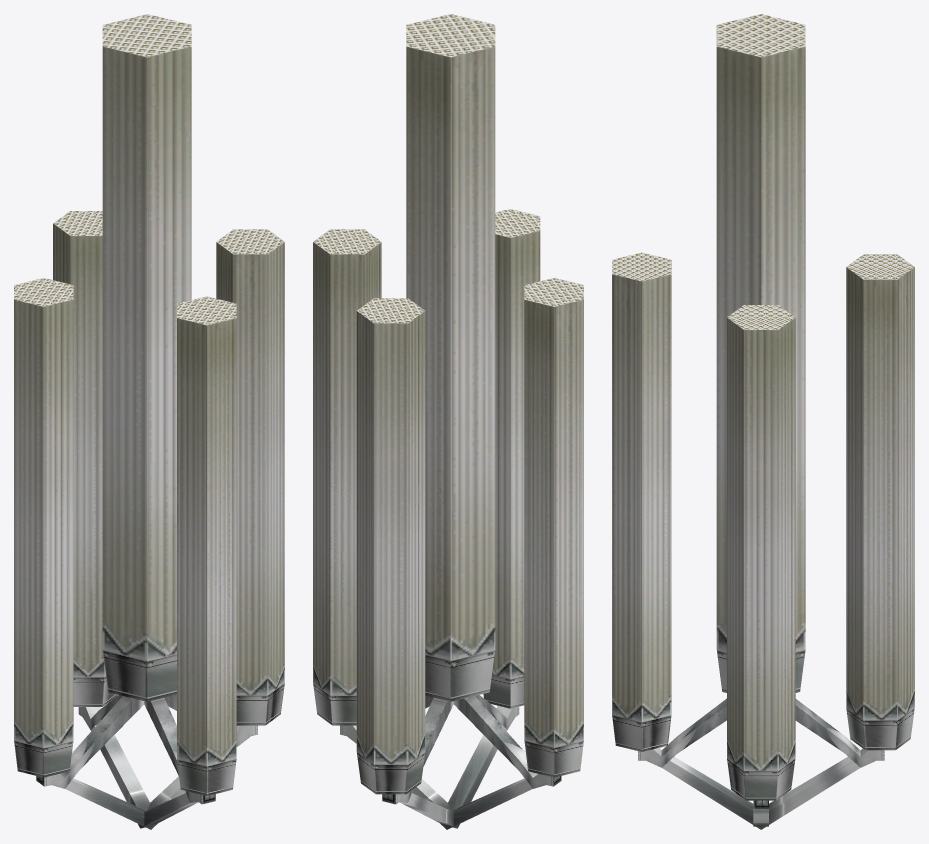
The model's file is corporate_chandelier_1.fbx.
The picture shows the model from 3 angles, left to right: view 1: azimuth 30°, elevation 25°; view 2: azimuth 150°, elevation 25°; view 3: azimuth 270°, elevation 25°; orthographic projection.
Parts seen in each view (by area): view 1: mesh_0; view 2: mesh_0; view 3: mesh_0.
Boxes of the visible parts, <box> form: mesh_0: <box>14,14,284,829</box>; mesh_0: <box>313,14,583,829</box>; mesh_0: <box>612,14,914,829</box>.
Bounding box in the file's own units: 83.57 × 241 × 83.57.
Materials: 1 (1 with a texture image).
